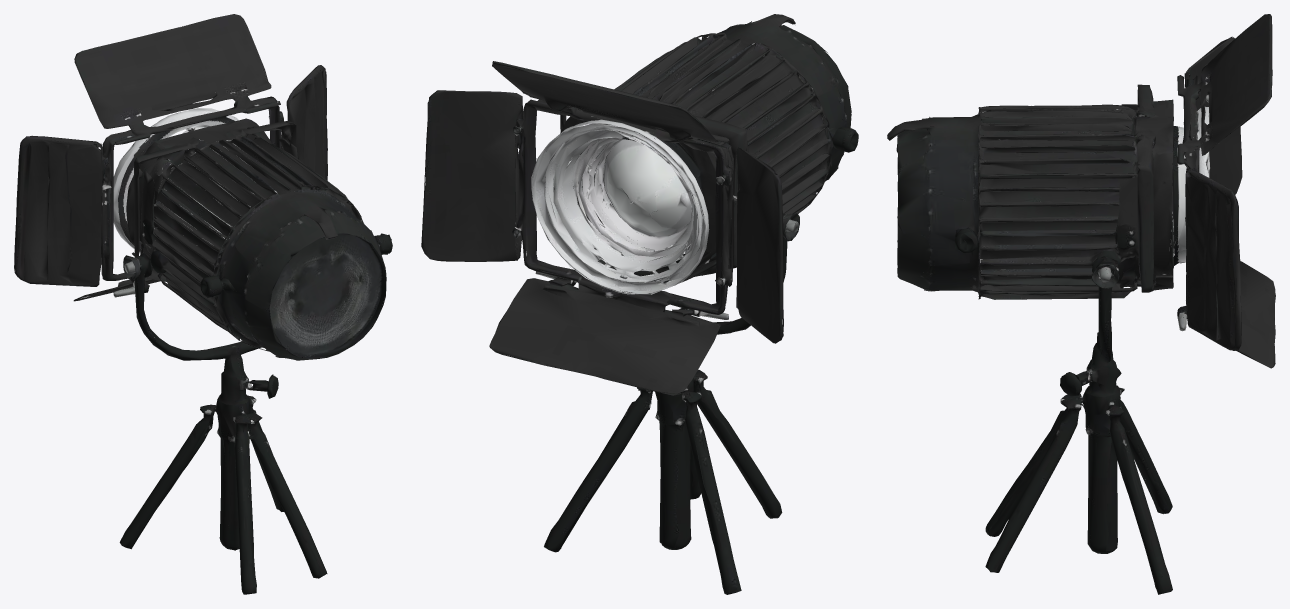
The model's file is prop-lamp.glb.
3 views of the same model, side by side, from view 1: azimuth 30°, elevation 25°; view 2: azimuth 150°, elevation 25°; view 3: azimuth 270°, elevation 25° (orthographic). The views are drawn at different scales.
Visible parts, largest first — view 1: Mesh_0; view 2: Mesh_0; view 3: Mesh_0.
Boxes of the visible parts, x1,y1,x2,y2 form: Mesh_0: (14, 14, 392, 594); Mesh_0: (421, 14, 858, 594); Mesh_0: (887, 14, 1275, 594).
Bounding box in the file's own units: 0.7103 × 1 × 0.705.
Materials: 1 (1 with a texture image).
